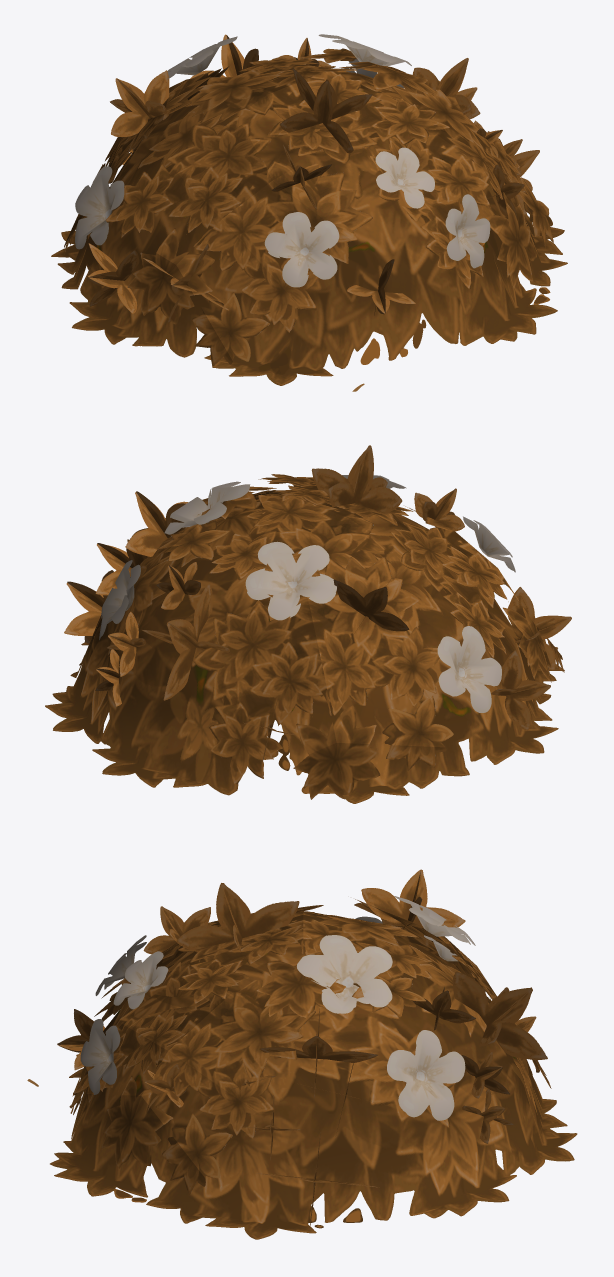
The model's file is 2_Arbusto_Cafe.fbx.
3 views of the same model, one above another, from view 1: azimuth 30°, elevation 25°; view 2: azimuth 150°, elevation 25°; view 3: azimuth 270°, elevation 25° (orthographic). The views are drawn at different scales.
Visible parts, largest first — view 1: 2_Arbusto_Cafe; view 2: 2_Arbusto_Cafe; view 3: 2_Arbusto_Cafe.
Boxes of the visible parts, bbox=[...] form: 2_Arbusto_Cafe: bbox=[51, 34, 567, 391]; 2_Arbusto_Cafe: bbox=[45, 445, 571, 803]; 2_Arbusto_Cafe: bbox=[27, 869, 577, 1239].
Bounding box in the file's own units: 356 × 193 × 350.
